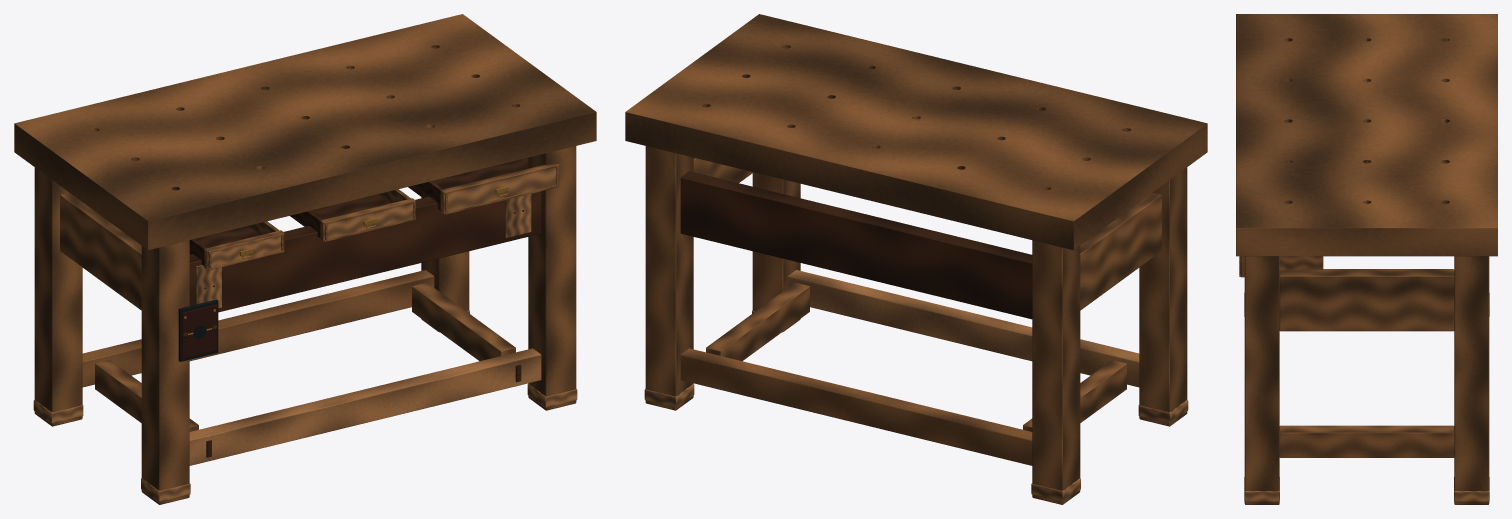
Rendered from asset.glb.
The picture shows the model from 3 angles, left to right: view 1: azimuth 30°, elevation 25°; view 2: azimuth 150°, elevation 25°; view 3: azimuth 270°, elevation 25°; orthographic projection. The views are drawn at different scales.
Visible parts, largest first — view 1: MaterialBatch_Room_furniture_quarter-sawn_oak, MaterialBatch_Room_furniture_light_oak, MaterialBatch_Room_furniture_smoked_walnut, Workbench vise leather jaw, MaterialBatch_Room_furniture_forged_iron; view 2: MaterialBatch_Room_furniture_quarter-sawn_oak, MaterialBatch_Room_furniture_smoked_walnut, MaterialBatch_Room_furniture_light_oak; view 3: MaterialBatch_Room_furniture_quarter-sawn_oak, MaterialBatch_Room_furniture_light_oak.
Part boxes in pixels (left/top/right/bottom): MaterialBatch_Room_furniture_quarter-sawn_oak: left=14, top=14, right=596, bottom=504; MaterialBatch_Room_furniture_light_oak: left=33, top=167, right=577, bottom=502; MaterialBatch_Room_furniture_smoked_walnut: left=181, top=159, right=541, bottom=457; Workbench vise leather jaw: left=182, top=304, right=216, bottom=358; MaterialBatch_Room_furniture_forged_iron: left=178, top=299, right=218, bottom=361; MaterialBatch_Room_furniture_quarter-sawn_oak: left=625, top=14, right=1207, bottom=504; MaterialBatch_Room_furniture_smoked_walnut: left=680, top=171, right=1032, bottom=319; MaterialBatch_Room_furniture_light_oak: left=644, top=270, right=1188, bottom=502; MaterialBatch_Room_furniture_quarter-sawn_oak: left=1236, top=14, right=1497, bottom=504; MaterialBatch_Room_furniture_light_oak: left=1244, top=293, right=1489, bottom=502.
Size of the model in its own units: 58 by 36 by 30.
7 materials, 7 textured.
